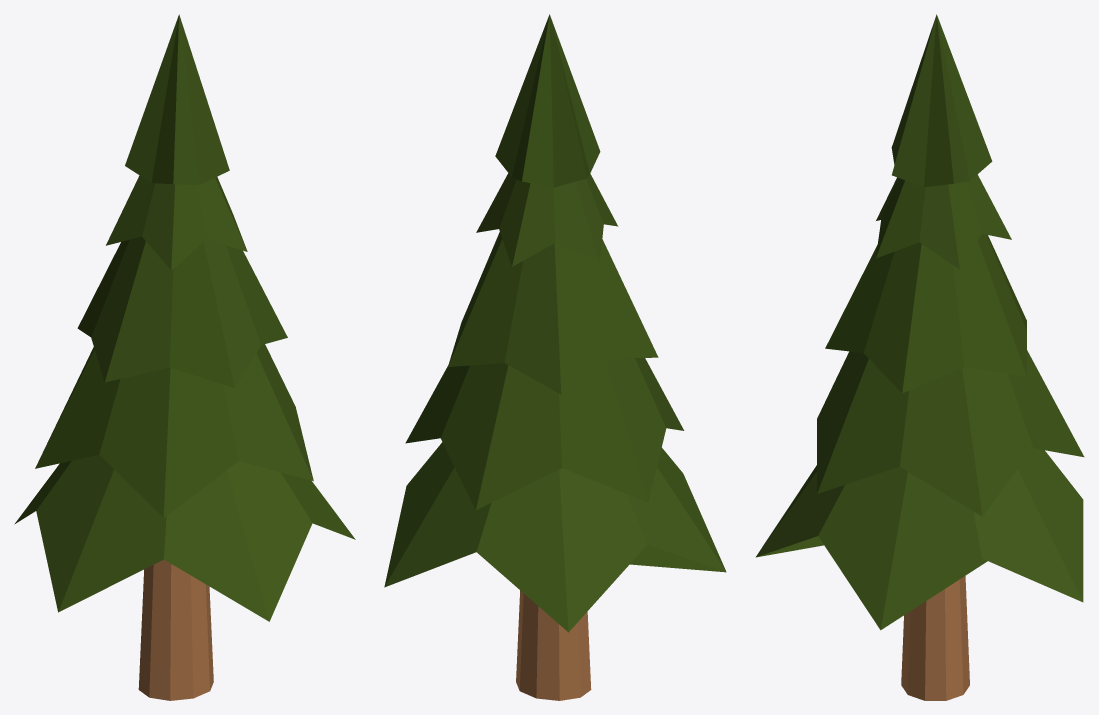
The model's file is PolyTree (1).fbx.
3 renders of one model, left to right at view 1: azimuth 30°, elevation 25°; view 2: azimuth 150°, elevation 25°; view 3: azimuth 270°, elevation 25°, orthographic.
Visible parts, largest first — view 1: Cylinder, Cylinder.001; view 2: Cylinder, Cylinder.001; view 3: Cylinder, Cylinder.001.
Boxes of the visible parts, left/top/right/bottom form: Cylinder: left=14, top=14, right=355, bottom=621; Cylinder.001: left=138, top=559, right=213, bottom=700; Cylinder: left=384, top=14, right=726, bottom=632; Cylinder.001: left=516, top=590, right=591, bottom=700; Cylinder: left=755, top=14, right=1084, bottom=630; Cylinder.001: left=901, top=576, right=969, bottom=700.
Size of the model in its own units: 435 by 936 by 415.
